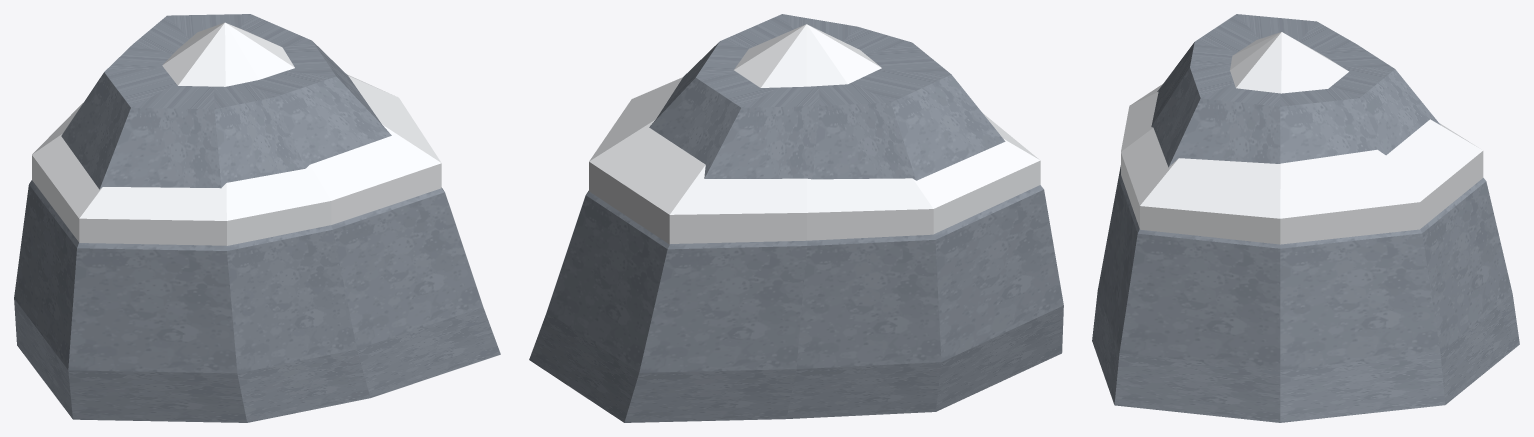
Rendered from boulder_snow.glb.
The picture shows the model from 3 angles, left to right: view 1: azimuth 30°, elevation 25°; view 2: azimuth 150°, elevation 25°; view 3: azimuth 270°, elevation 25°; orthographic projection. The views are drawn at different scales.
Parts seen in each view (by area): view 1: canonical_base, snow_accumulation; view 2: canonical_base, snow_accumulation; view 3: canonical_base, snow_accumulation.
Part boxes in pixels (x1,y1,x2,y2): canonical_base: [14, 14, 500, 422]; snow_accumulation: [32, 22, 441, 245]; canonical_base: [529, 14, 1063, 422]; snow_accumulation: [589, 24, 1040, 244]; canonical_base: [1092, 14, 1519, 422]; snow_accumulation: [1121, 32, 1483, 244].
Bounding box in the file's own units: 1.4 × 0.97 × 1.3.
2 materials, 1 textured.
